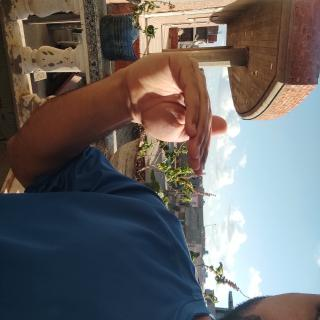KHAA: (30, 117, 139, 266)
